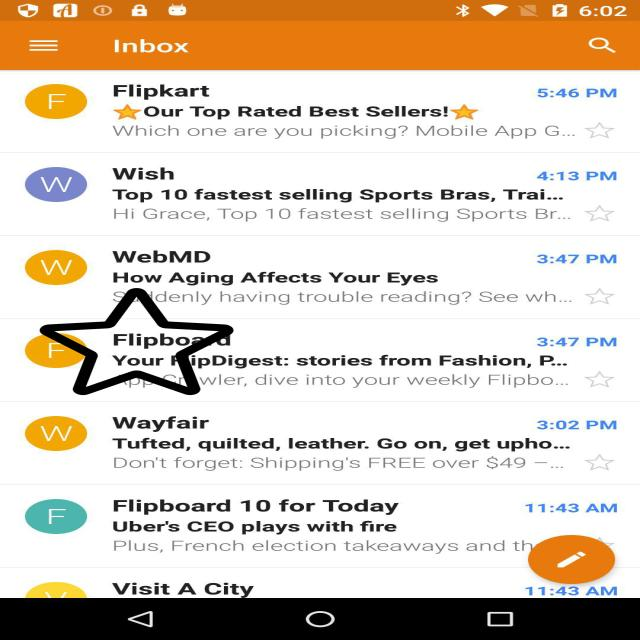forced continuity: (40, 286, 234, 397)
